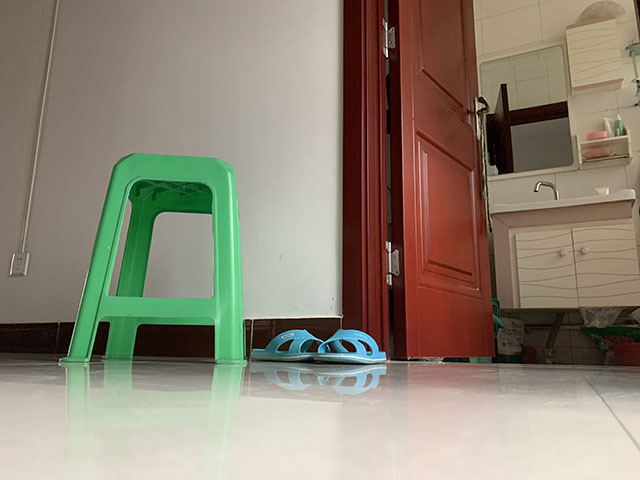slippers: (250, 329, 332, 366), (309, 328, 391, 365)
stool: (58, 151, 249, 365)
